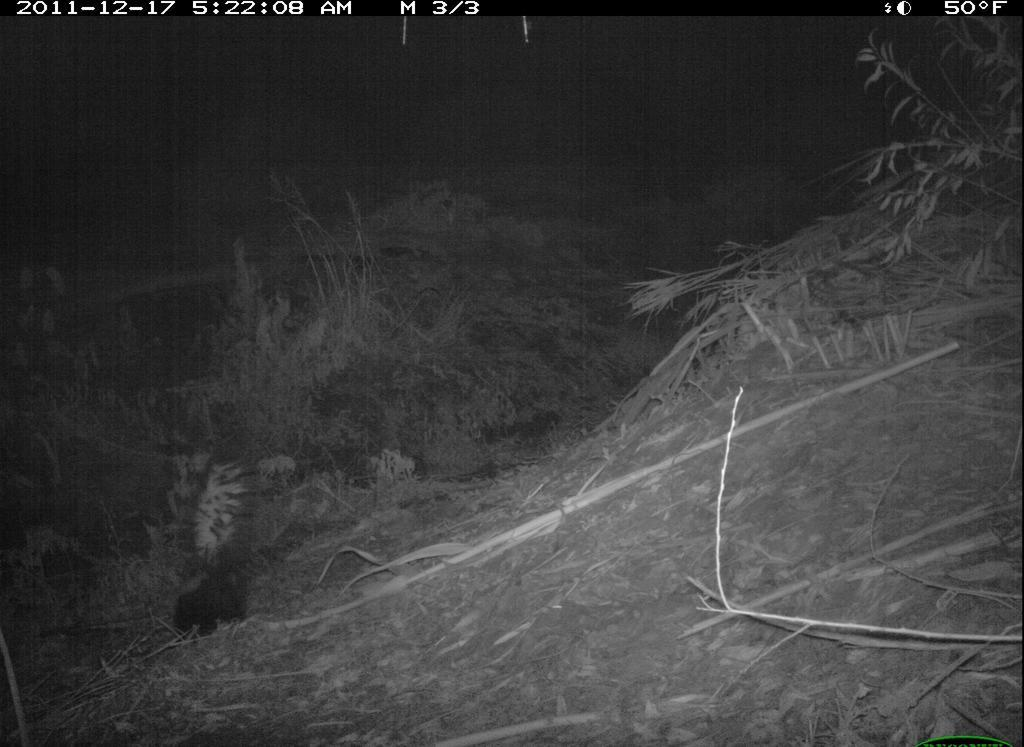skunk: (140, 425, 290, 634)
